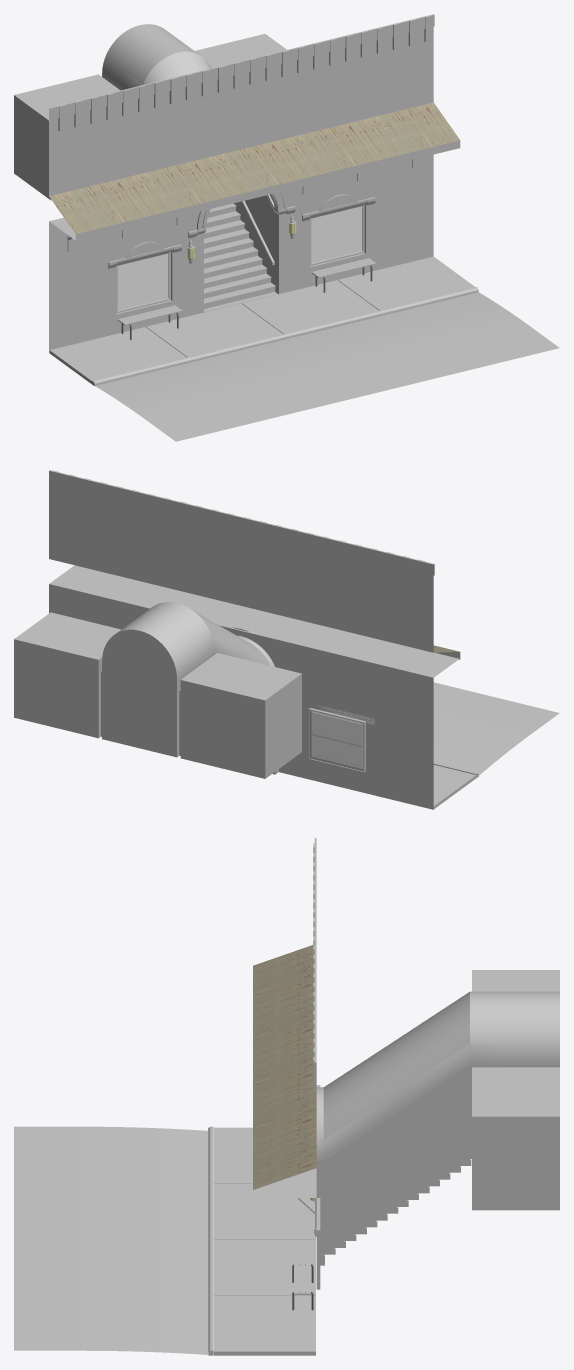
Rendered from apartment05.dae.
The picture shows the model from 3 angles, top to bottom: view 1: azimuth 30°, elevation 25°; view 2: azimuth 150°, elevation 25°; view 3: azimuth 270°, elevation 25°; orthographic projection. The views are drawn at different scales.
Parts seen in each view (by area): view 1: group_5 (×3), group_10 (×3), group_9, group_11 (×4), group_1, group_0, group_12, group_4, group_7, instance_15, instance_18, instance_13 (+3 smaller); view 2: group_10 (×3), group_5 (×2), group_9, group_0, group_4, group_11 (×2), group_3; view 3: group_9, group_10 (×3), group_0, group_11 (×4), group_5 (×2), group_12.
Part boxes in pixels (<box>): group_5 (×3): <box>49,26,460,241</box>; group_10 (×3): <box>14,34,433,353</box>; group_9: <box>95,292,559,441</box>; group_11 (×4): <box>49,256,475,384</box>; group_1: <box>204,203,275,308</box>; group_0: <box>102,24,273,202</box>; group_12: <box>92,287,478,385</box>; group_4: <box>117,253,168,309</box>; group_7: <box>311,206,361,262</box>; instance_15: <box>177,61,241,100</box>; instance_18: <box>367,15,432,53</box>; instance_13: <box>49,92,113,131</box>; group_10 (×3): <box>14,584,433,809</box>; group_5 (×2): <box>49,471,460,677</box>; group_9: <box>311,682,559,776</box>; group_0: <box>116,602,274,678</box>; group_4: <box>311,712,361,768</box>; group_11 (×2): <box>311,735,476,809</box>; group_3: <box>309,709,364,771</box>; group_9: <box>14,1126,207,1354</box>; group_10 (×3): <box>316,970,559,1265</box>; group_0: <box>316,991,559,1160</box>; group_11 (×4): <box>214,1127,315,1355</box>; group_5 (×2): <box>253,945,316,1199</box>; group_12: <box>208,1126,213,1355</box>.
Size of the model in its own units: 493 by 506 by 300.
